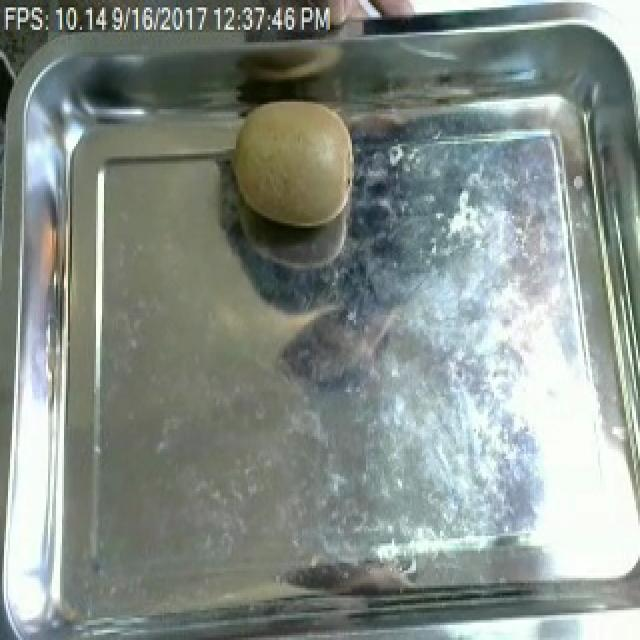Fruit: (222, 89, 368, 236)
